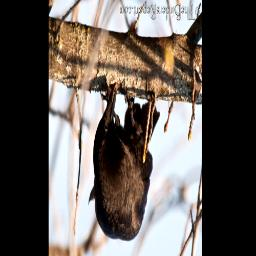Crow: (86, 82, 161, 243)
